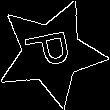P_E: (22, 30, 80, 76)
